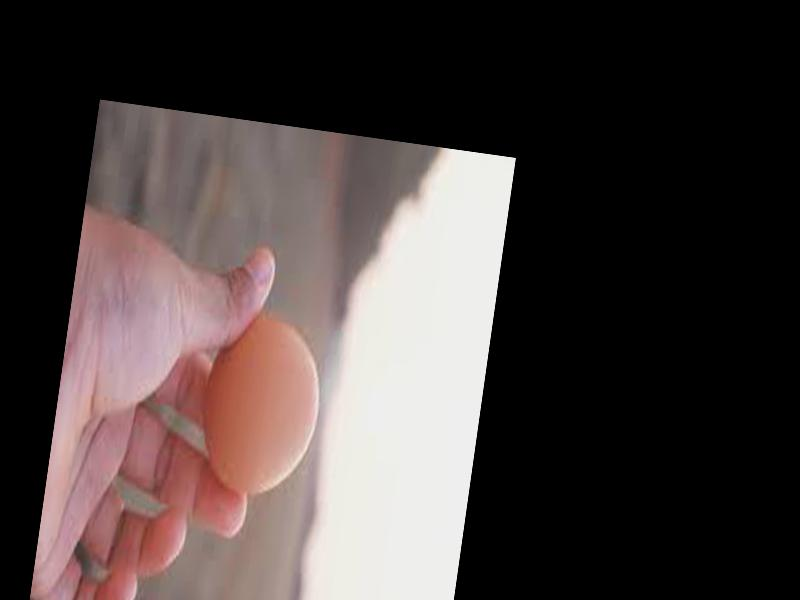Eggs: (194, 311, 329, 502)
